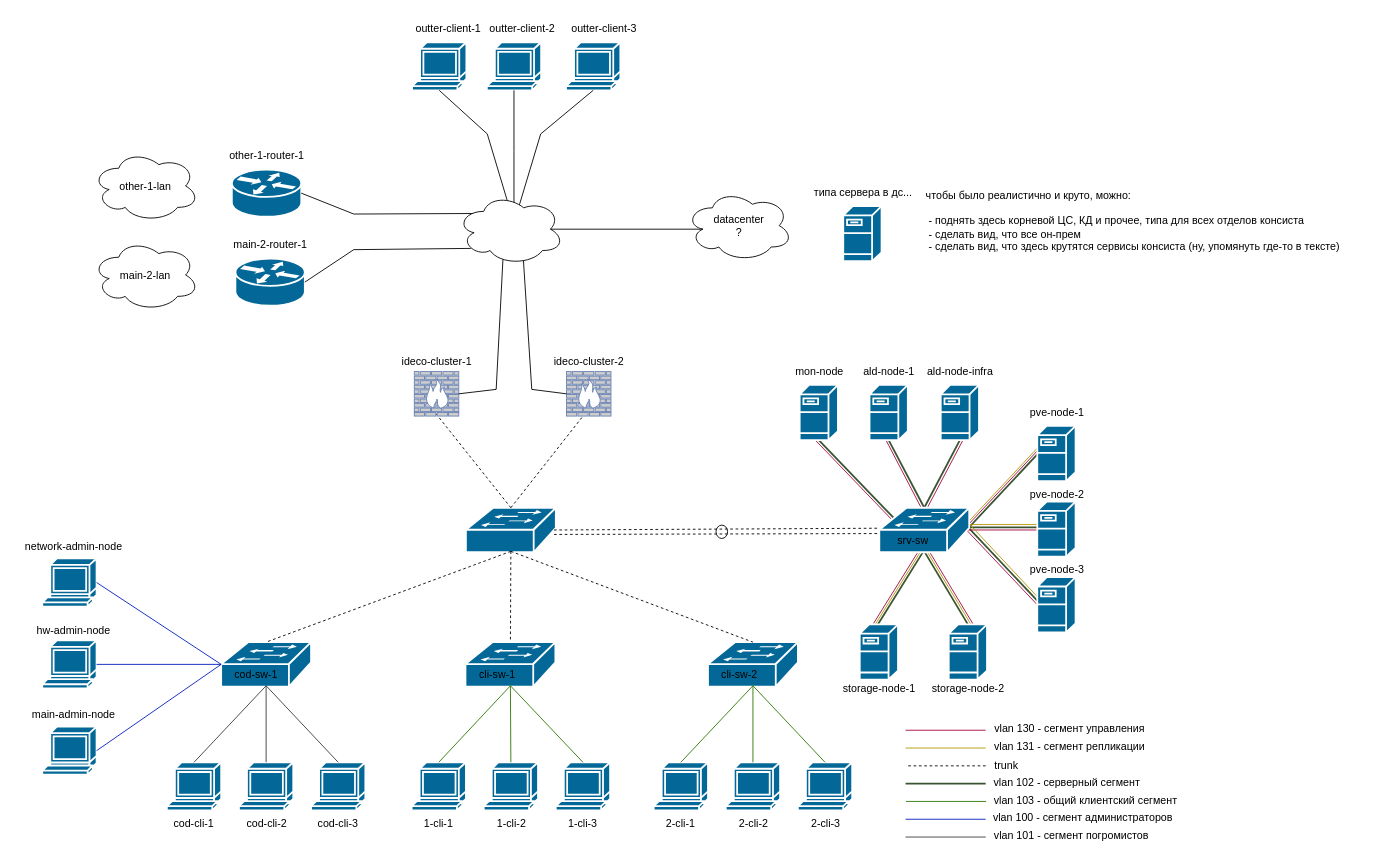
Image size: 1375x864. Some labels were removed from this diagram. Each missing label, with the centre of its shape:
core-sw: [510,529]
OpenVPN: [510,229]
